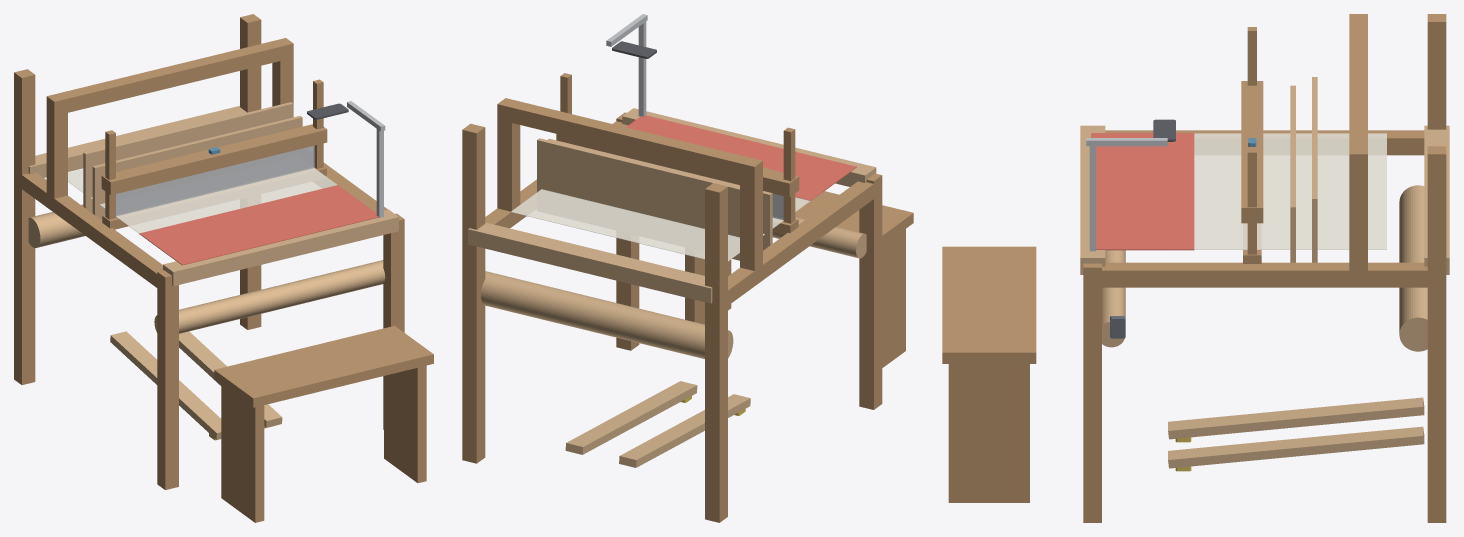
The model's file is loom_iso.glb.
The picture shows the model from 3 angles, left to right: view 1: azimuth 30°, elevation 25°; view 2: azimuth 150°, elevation 25°; view 3: azimuth 270°, elevation 25°; orthographic projection. The views are drawn at different scales.
Parts seen in each view (by area): view 1: 026_bench, 015_cloth, 001_post, 008_cross top, 013_cloth beam, 016_warp, 027_bench leg, 019_beater top, 000_post, 020_reed, 011_breast beam, 028_bench leg (+15 smaller); view 2: 018_shaft, 014_warp beam, 005_post, 001_post, 012_back beam, 008_cross top, 016_warp, 000_post, 015_cloth, 002_side rail, 027_bench leg, 025_treadle (+13 smaller); view 3: 016_warp, 028_bench leg, 026_bench, 015_cloth, 006_side rail, 005_post, 004_post, 024_treadle, 025_treadle, 014_warp beam, 008_cross top, 019_beater top (+12 smaller).
Part boxes in pixels (x1,y1,x2,y2): 026_bench: [214, 325, 433, 407]; 015_cloth: [139, 185, 378, 265]; 001_post: [14, 69, 35, 384]; 008_cross top: [46, 38, 293, 115]; 013_cloth beam: [154, 260, 385, 333]; 016_warp: [68, 168, 337, 241]; 027_bench leg: [221, 385, 264, 522]; 019_beater top: [101, 124, 327, 194]; 000_post: [157, 270, 178, 489]; 020_reed: [116, 145, 314, 216]; 011_breast beam: [163, 209, 398, 286]; 028_bench leg: [384, 365, 426, 482]; 018_shaft: [537, 138, 739, 260]; 014_warp beam: [481, 271, 733, 358]; 005_post: [462, 123, 485, 463]; 001_post: [705, 183, 727, 522]; 012_back beam: [468, 222, 712, 303]; 008_cross top: [497, 98, 762, 181]; 016_warp: [511, 189, 822, 261]; 000_post: [859, 173, 882, 409]; 015_cloth: [626, 115, 856, 200]; 002_side rail: [723, 181, 877, 307]; 027_bench leg: [882, 229, 905, 367]; 025_treadle: [565, 381, 697, 454]; 016_warp: [1194, 133, 1386, 249]; 028_bench leg: [948, 364, 1029, 502]; 026_bench: [942, 246, 1036, 363]; 015_cloth: [1091, 133, 1194, 250]; 006_side rail: [1093, 262, 1436, 287]; 005_post: [1427, 146, 1446, 522]; 004_post: [1083, 263, 1101, 522]; 024_treadle: [1168, 397, 1424, 439]; 025_treadle: [1168, 426, 1424, 468]; 014_warp beam: [1399, 185, 1427, 351]; 008_cross top: [1349, 14, 1367, 171]; 019_beater top: [1241, 81, 1263, 223].
Bounding box in the file's own units: 1.09 × 1.31 × 1.62.
